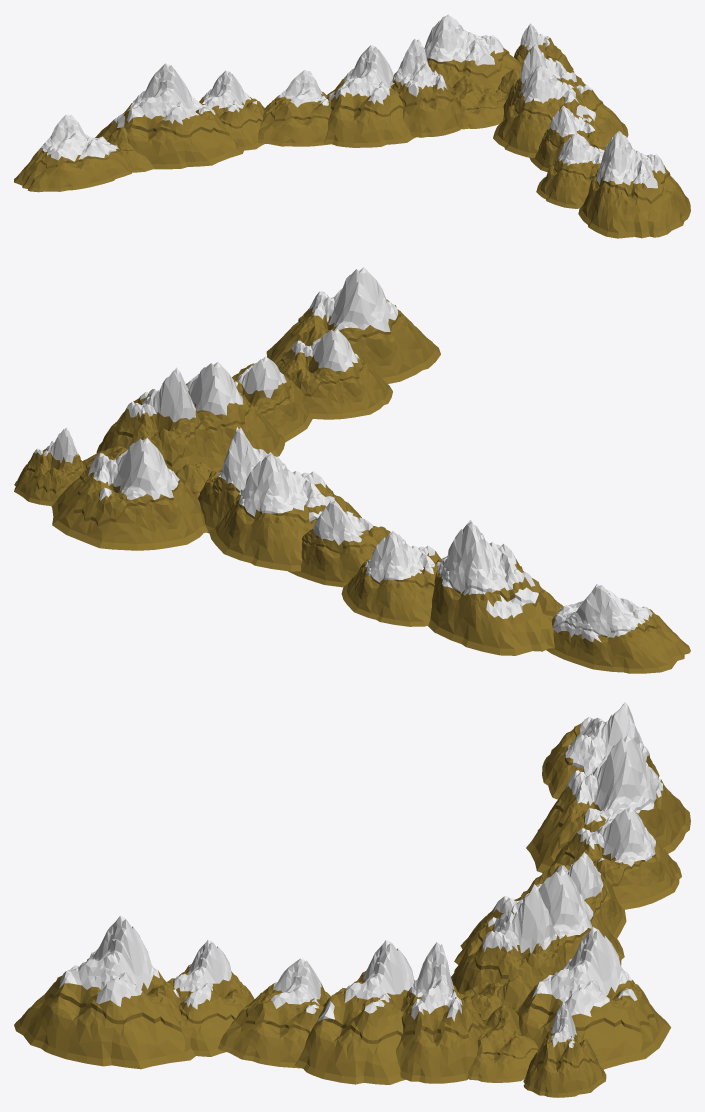
The model's file is lighter angle mountain with snow.fbx.
3 renders of one model, top to bottom at view 1: azimuth 30°, elevation 25°; view 2: azimuth 150°, elevation 25°; view 3: azimuth 270°, elevation 25°, orthographic. The views are drawn at different scales.
Visible parts, largest first — view 1: pasted__pasted__PP_Forest_Mountain_Moss_01_89; view 2: pasted__pasted__PP_Forest_Mountain_Moss_01_89; view 3: pasted__pasted__PP_Forest_Mountain_Moss_01_89.
Part boxes in pixels (x1,y1,x2,y2): pasted__pasted__PP_Forest_Mountain_Moss_01_89: (14,14,690,238); pasted__pasted__PP_Forest_Mountain_Moss_01_89: (14,267,690,673); pasted__pasted__PP_Forest_Mountain_Moss_01_89: (14,702,690,1097).
Size of the model in its own units: 112 by 16.59 by 88.96.
